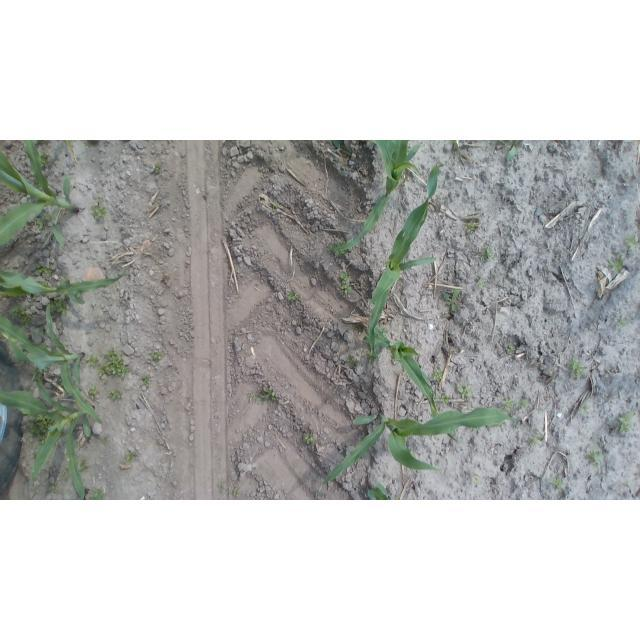Maize: (318, 406, 518, 499), (365, 164, 448, 361), (360, 325, 475, 448), (0, 304, 102, 425), (1, 375, 96, 499), (328, 141, 427, 256), (1, 140, 81, 252), (0, 267, 128, 305)
Weeds: (98, 348, 130, 381), (27, 414, 55, 443), (249, 388, 279, 405), (501, 141, 524, 162), (442, 288, 462, 312), (568, 357, 589, 378), (8, 307, 31, 326), (617, 410, 635, 434), (92, 196, 108, 220), (51, 297, 69, 318), (608, 255, 626, 276), (586, 447, 603, 469), (527, 429, 546, 447), (457, 383, 474, 400), (339, 271, 351, 295), (35, 262, 53, 278), (30, 368, 46, 385), (32, 215, 48, 230), (478, 247, 493, 262), (108, 388, 124, 402), (329, 244, 347, 256), (501, 399, 515, 414), (148, 350, 164, 363), (39, 152, 51, 169), (286, 289, 300, 303), (626, 235, 639, 250), (87, 385, 100, 400), (139, 373, 152, 388), (551, 477, 564, 492), (346, 354, 358, 369), (89, 489, 105, 500), (86, 354, 99, 367), (366, 350, 379, 363), (153, 163, 166, 176), (48, 483, 61, 496), (432, 368, 445, 381), (303, 432, 315, 446), (615, 317, 629, 329), (464, 220, 477, 232), (230, 485, 242, 497), (516, 398, 528, 410), (124, 451, 136, 463), (441, 393, 452, 405), (505, 344, 516, 356), (580, 404, 591, 416), (79, 459, 89, 472), (271, 202, 281, 214), (38, 326, 47, 338), (62, 469, 71, 481), (471, 472, 479, 485), (59, 276, 69, 285), (476, 279, 485, 289), (378, 327, 389, 335), (217, 481, 225, 490)
